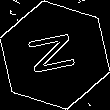N_E: (25, 30, 85, 80)
